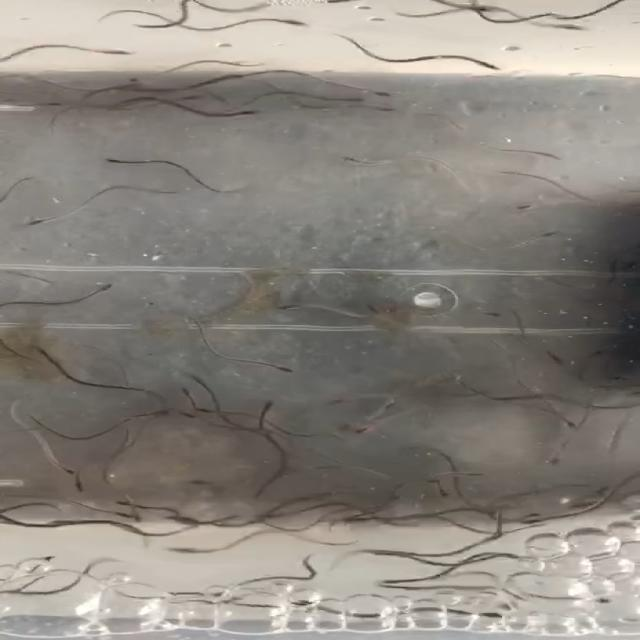active_glass_eel: (90, 42, 137, 61), (512, 195, 554, 214), (161, 542, 215, 556), (353, 83, 399, 99), (226, 106, 270, 122), (547, 18, 588, 34), (166, 514, 212, 527), (572, 592, 614, 606), (113, 496, 148, 512), (83, 280, 120, 295), (552, 415, 584, 432), (470, 57, 500, 75), (338, 154, 382, 166), (259, 396, 283, 418), (458, 3, 505, 14), (178, 368, 208, 385), (14, 214, 50, 228), (131, 67, 159, 85), (204, 589, 246, 601), (276, 12, 308, 27), (369, 103, 401, 118), (468, 307, 500, 322), (452, 465, 484, 480), (169, 93, 212, 104), (99, 155, 141, 166), (324, 395, 356, 409), (278, 302, 315, 314), (170, 382, 196, 399), (35, 98, 68, 111), (114, 509, 144, 523), (54, 458, 77, 476), (542, 350, 567, 366), (433, 482, 458, 498), (332, 95, 375, 104), (69, 475, 89, 494), (532, 228, 574, 237), (177, 407, 203, 421), (547, 446, 567, 464), (272, 362, 300, 373), (355, 428, 376, 438)
